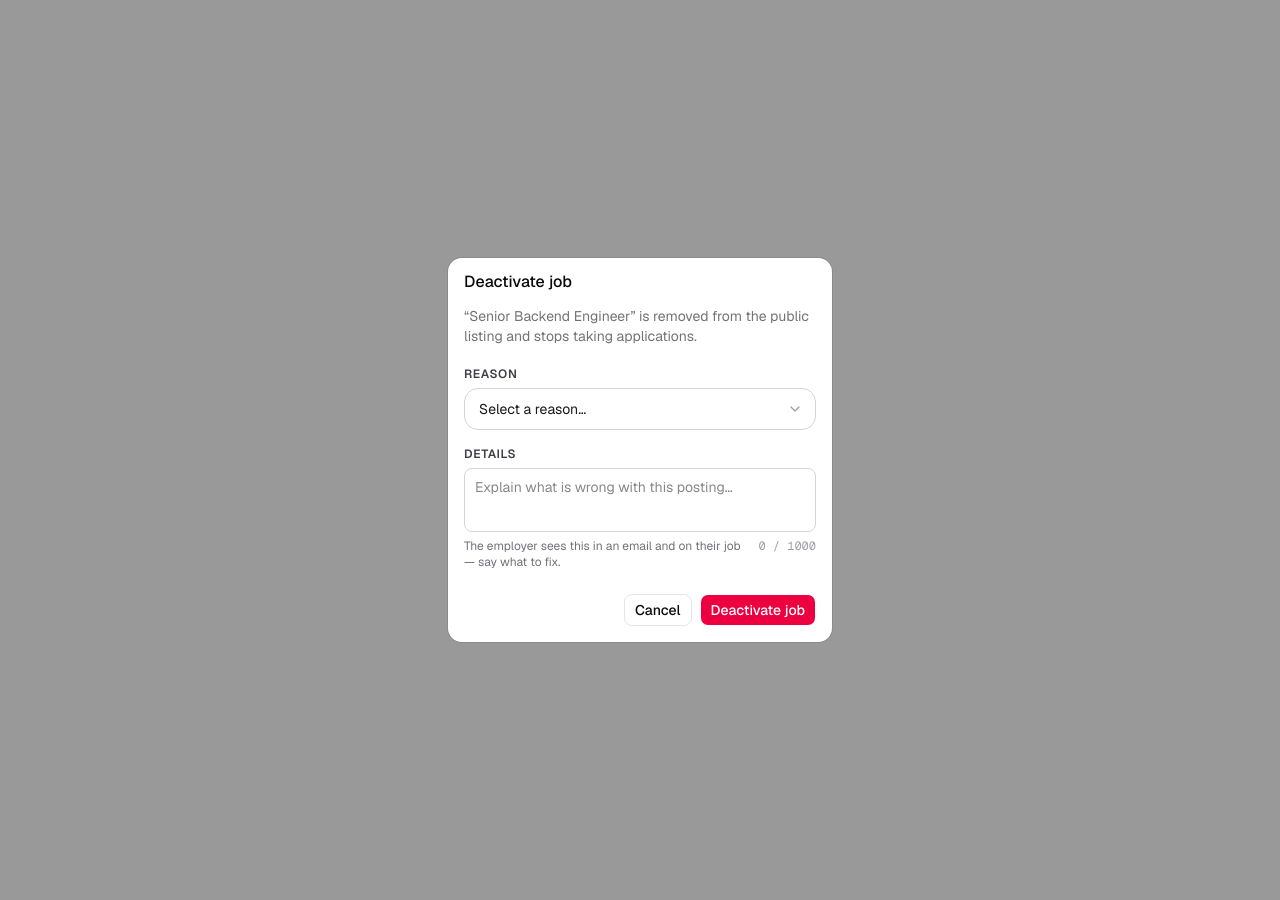
Test: DeactivateJobDialog › refuses details that are too short once trimmed
Select "Misleading or invalid information" in the dropdown labelled "Reason" at (640, 409), box x1=465 y1=389 x2=815 y2=429
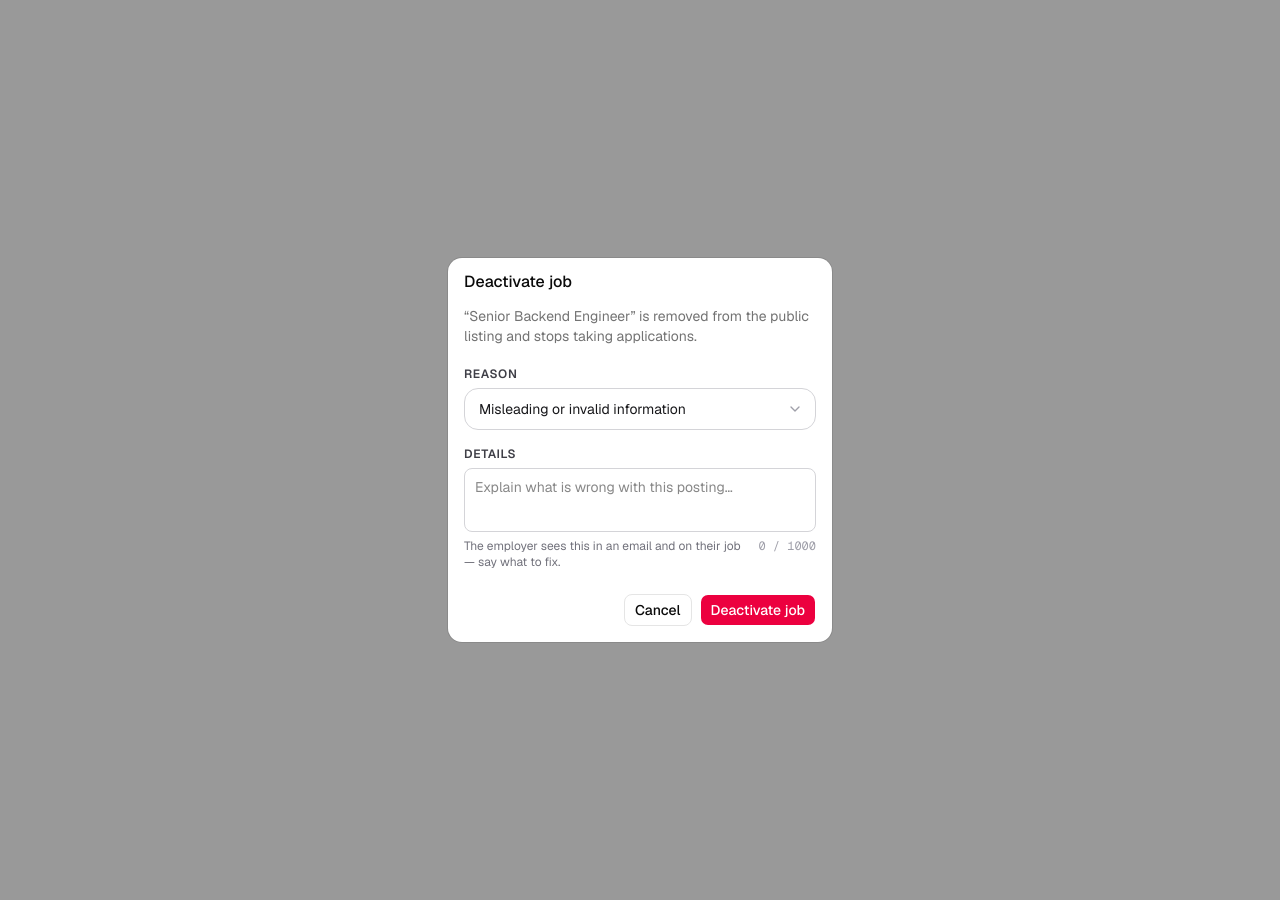
Type "   spam   " into the text box labelled "Details".
click(640, 500); type("   spam   ")  # box x1=464 y1=468 x2=816 y2=532
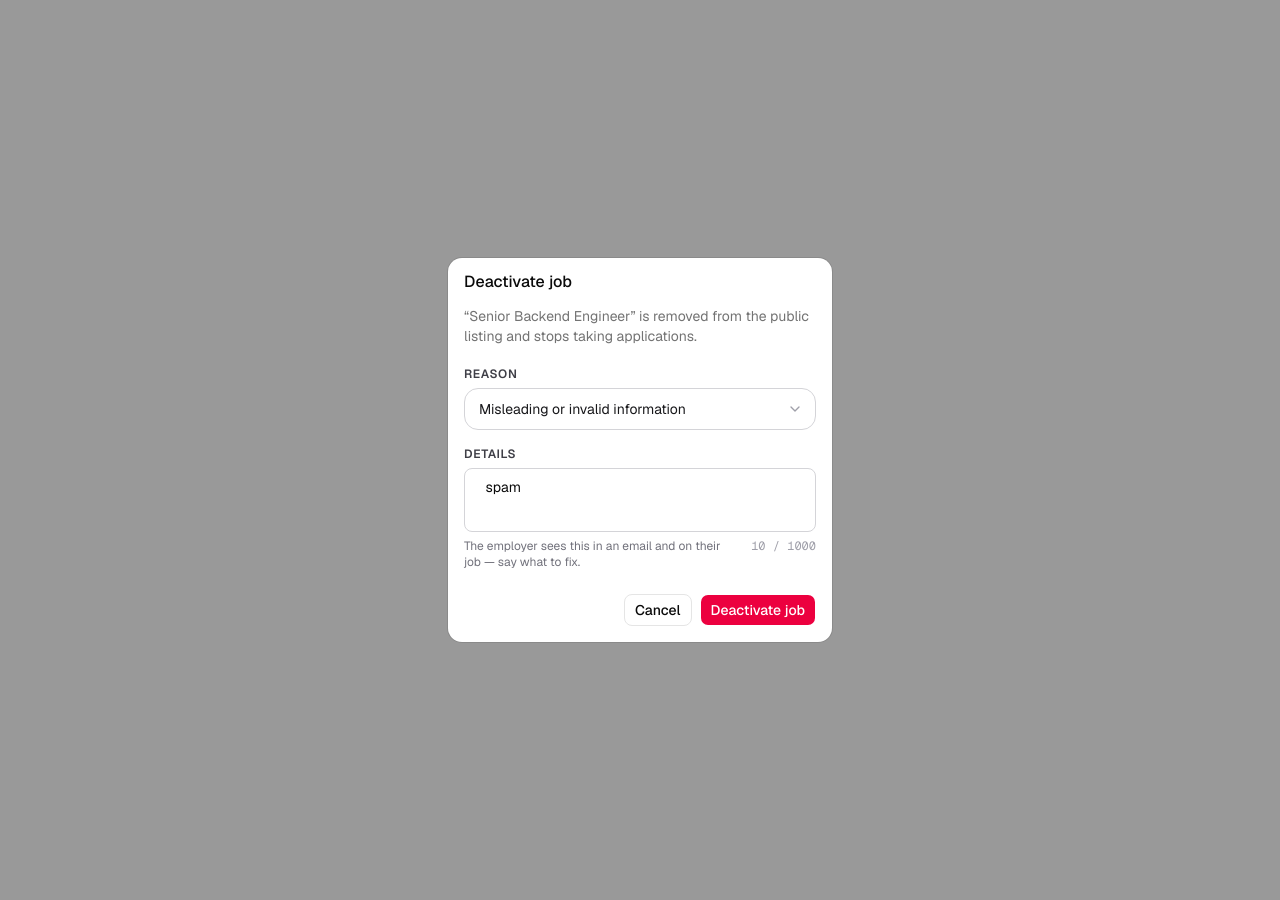
Click the button "Deactivate job".
click(758, 610)  # box x1=700 y1=594 x2=816 y2=626
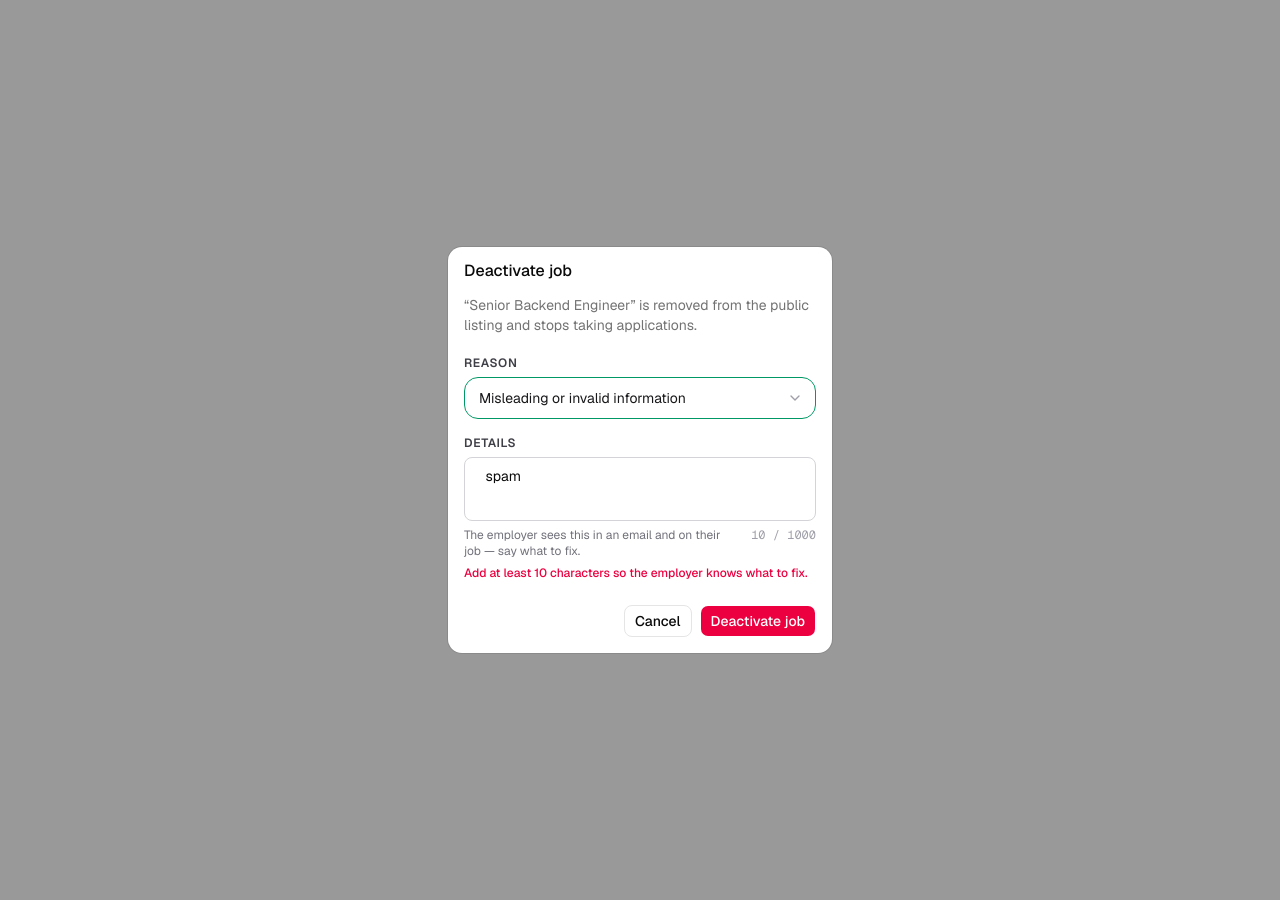
Check: the message shows "at least 10 characters", box x1=464 y1=565 x2=808 y2=581
